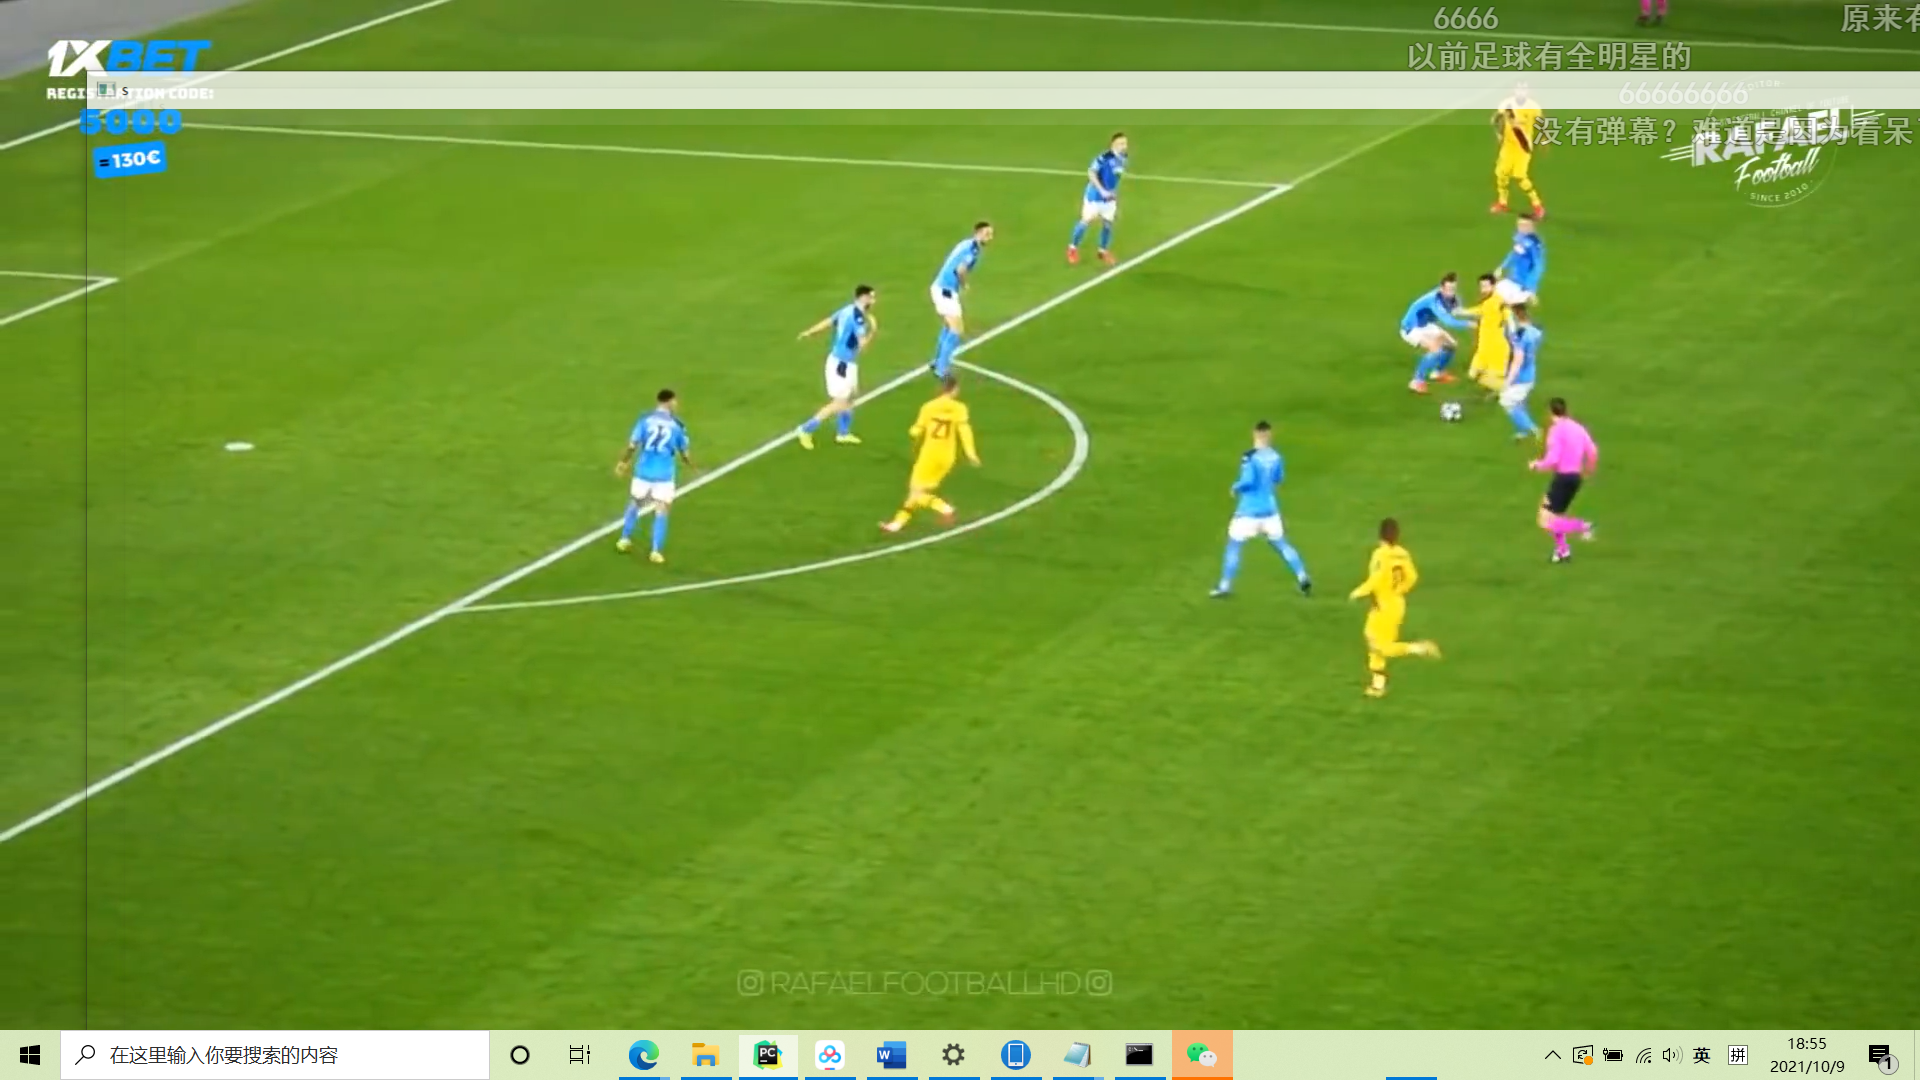ft: (1439, 401, 1466, 429)
